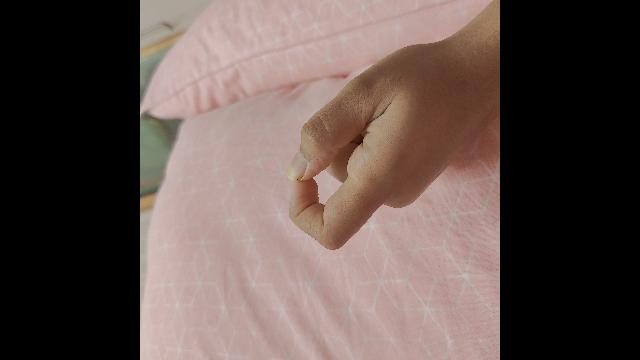kapitth: (290, 0, 500, 251)
